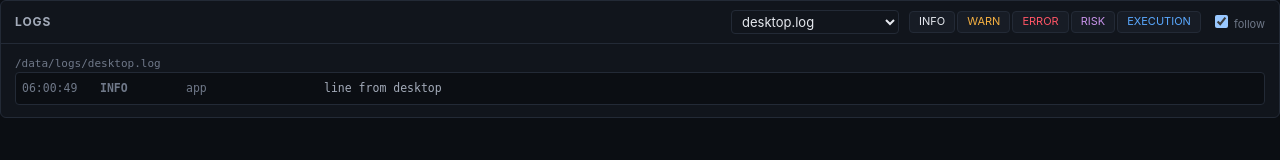
Test: about and backup › log view reads the selected log file
The width and height of the screenshot is (1280, 160).
Expected: the text "line from desktop" is shown, [324, 81, 442, 95]
Select "reconciliation.log" in the dropdown named "Log file" at [815, 22], box [731, 10, 899, 34]
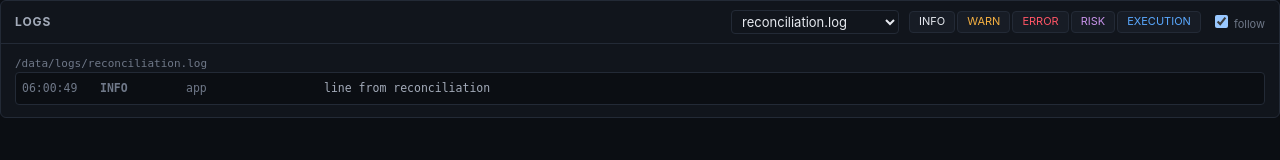
Expected: the text "line from reconciliation" is shown, [324, 81, 490, 95]
